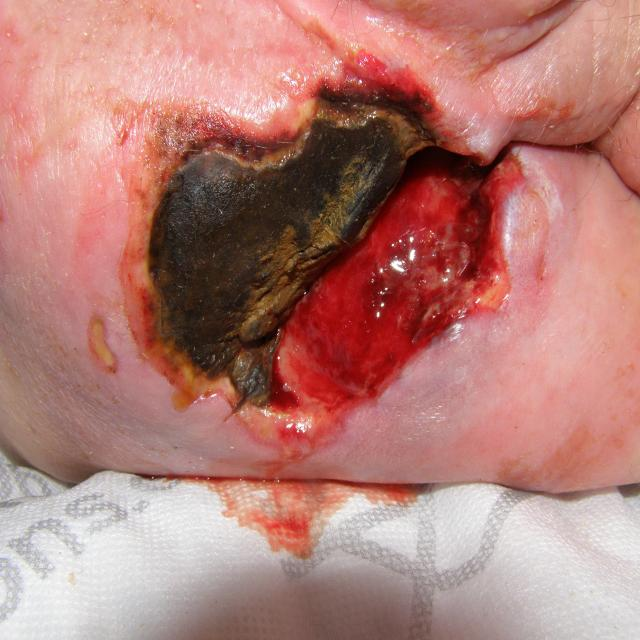wound: (130, 69, 510, 411)
